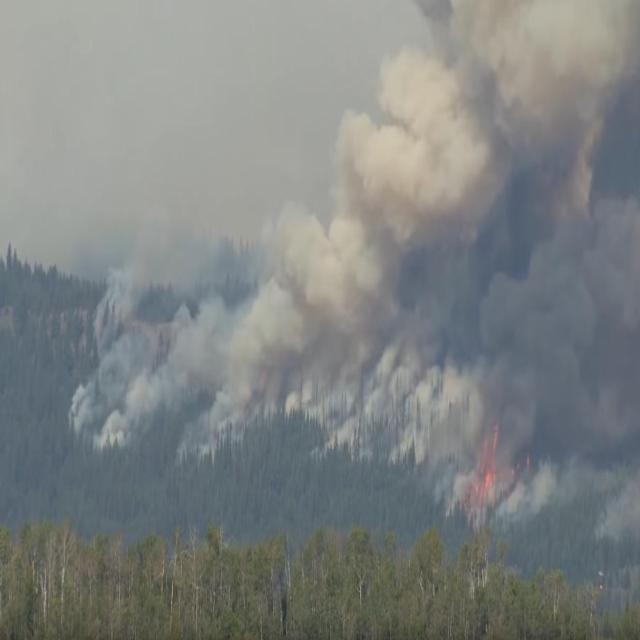Fire: (459, 420, 527, 506)
